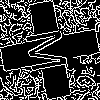M: (25, 25, 78, 75)
